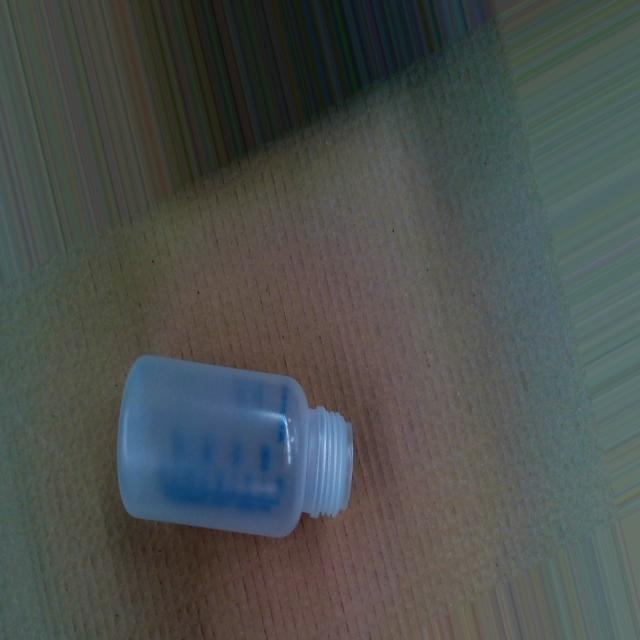bottle: (115, 342, 356, 552)
